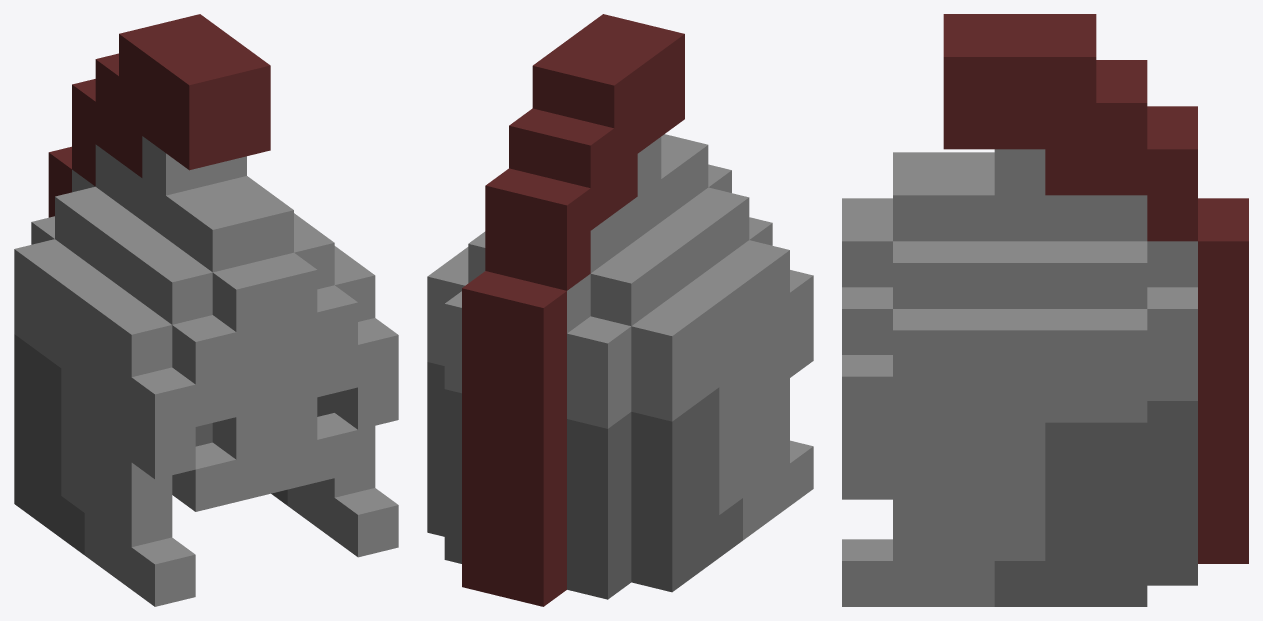
File: char-60-helm_med_2c_ja.obj
The picture shows the model from 3 angles, left to right: view 1: azimuth 30°, elevation 25°; view 2: azimuth 150°, elevation 25°; view 3: azimuth 270°, elevation 25°; orthographic projection. The views are drawn at different scales.
Visible parts, largest first — view 1: helm_med_2c_ja; view 2: helm_med_2c_ja; view 3: helm_med_2c_ja.
Boxes of the visible parts, <box> form: helm_med_2c_ja: <box>14,14,398,606</box>; helm_med_2c_ja: <box>427,14,813,606</box>; helm_med_2c_ja: <box>842,14,1248,606</box>.
Bounding box in the file's own units: 0.6 × 1.1 × 0.8.
1 material, 1 textured.
